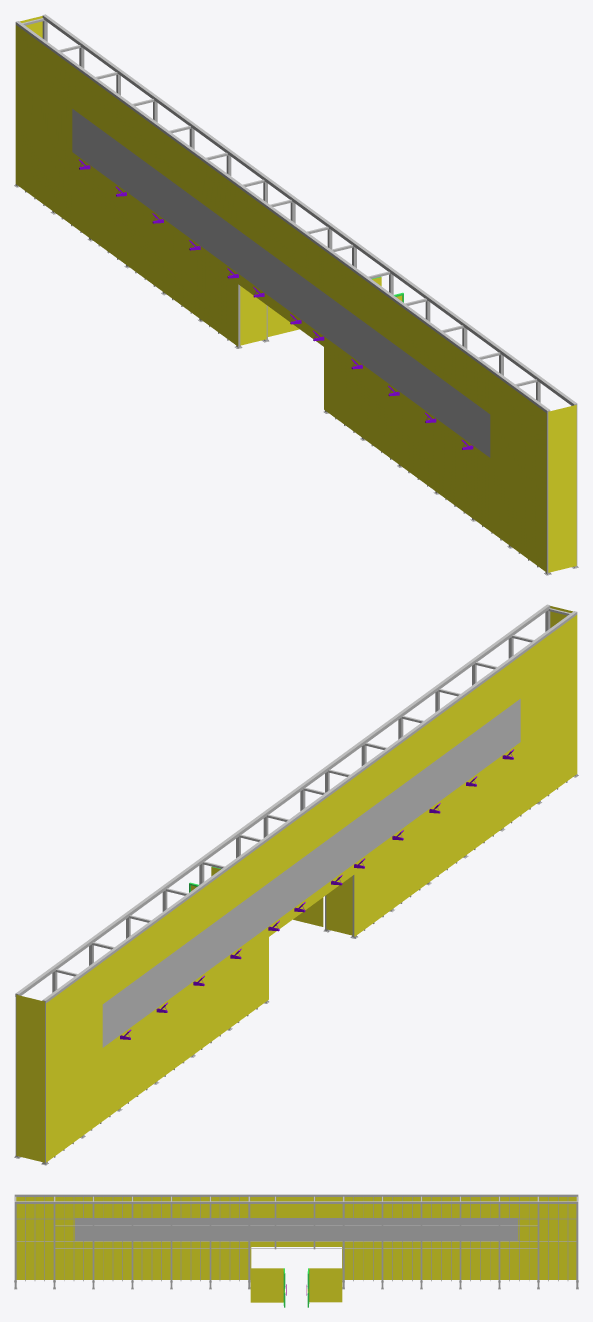
The model's file is estructura_metal_rectoria.fbx.
3 views of the same model, one above another, from view 1: azimuth 30°, elevation 25°; view 2: azimuth 150°, elevation 25°; view 3: azimuth 270°, elevation 25° (orthographic). The views are drawn at different scales.
Parts seen in each view (by area): view 1: metal, mural, estructura_metal, lights; view 2: metal, mural, estructura_metal, lights; view 3: metal, estructura_metal, mural.
Boxes of the visible parts, x1=… form: metal: x1=15, y1=16, x2=576, y2=572; mural: x1=72, y1=109, x2=490, y2=457; estructura_metal: x1=14, y1=14, x2=578, y2=575; lights: x1=79, y1=159, x2=473, y2=449; metal: x1=16, y1=606, x2=577, y2=1162; mural: x1=102, y1=699, x2=520, y2=1047; estructura_metal: x1=14, y1=604, x2=578, y2=1165; lights: x1=120, y1=749, x2=513, y2=1039; metal: x1=16, y1=1197, x2=576, y2=1307; estructura_metal: x1=14, y1=1194, x2=578, y2=1289; mural: x1=75, y1=1218, x2=518, y2=1240.
Bounding box in the file's own units: 5.95 × 7.68 × 45.22.
